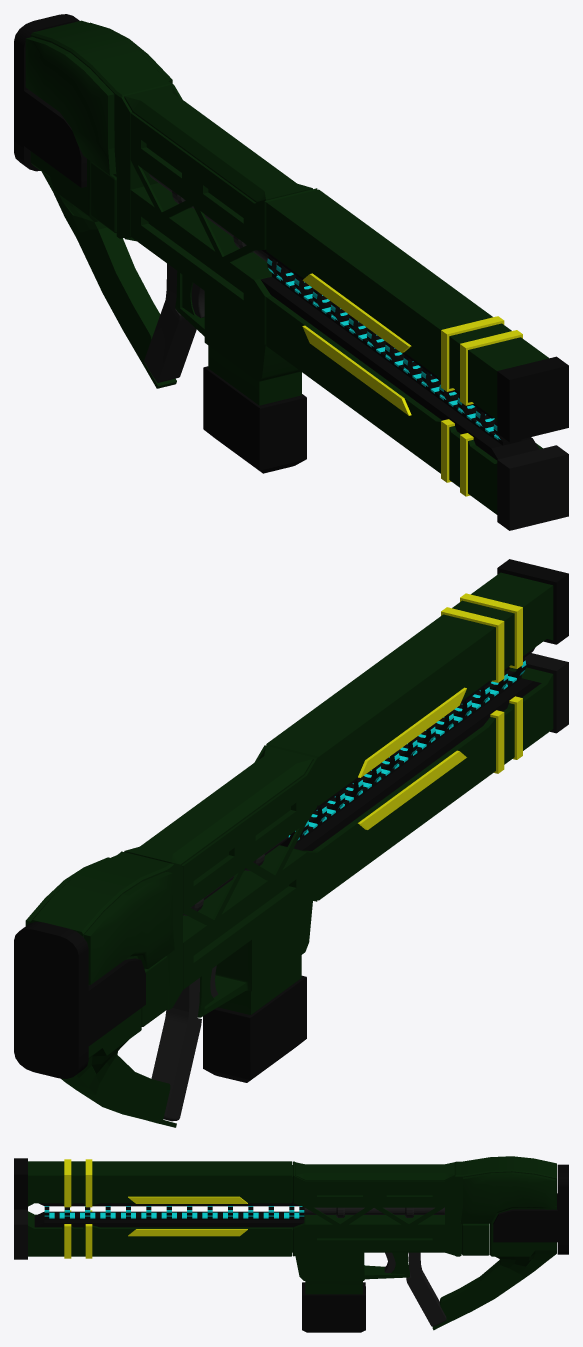
3 views of the same model, one above another, from view 1: azimuth 30°, elevation 25°; view 2: azimuth 150°, elevation 25°; view 3: azimuth 270°, elevation 25° (orthographic). The views are drawn at different scales.
Visible parts, largest first — view 1: polySurface13; view 2: polySurface13; view 3: polySurface13.
Boxes of the visible parts, left/top/right/bottom form: polySurface13: left=14, top=14, right=568, bottom=530; polySurface13: left=14, top=559, right=568, bottom=1127; polySurface13: left=14, top=1156, right=568, bottom=1332.
Size of the model in its own units: 3.33 by 12.36 by 37.47.
